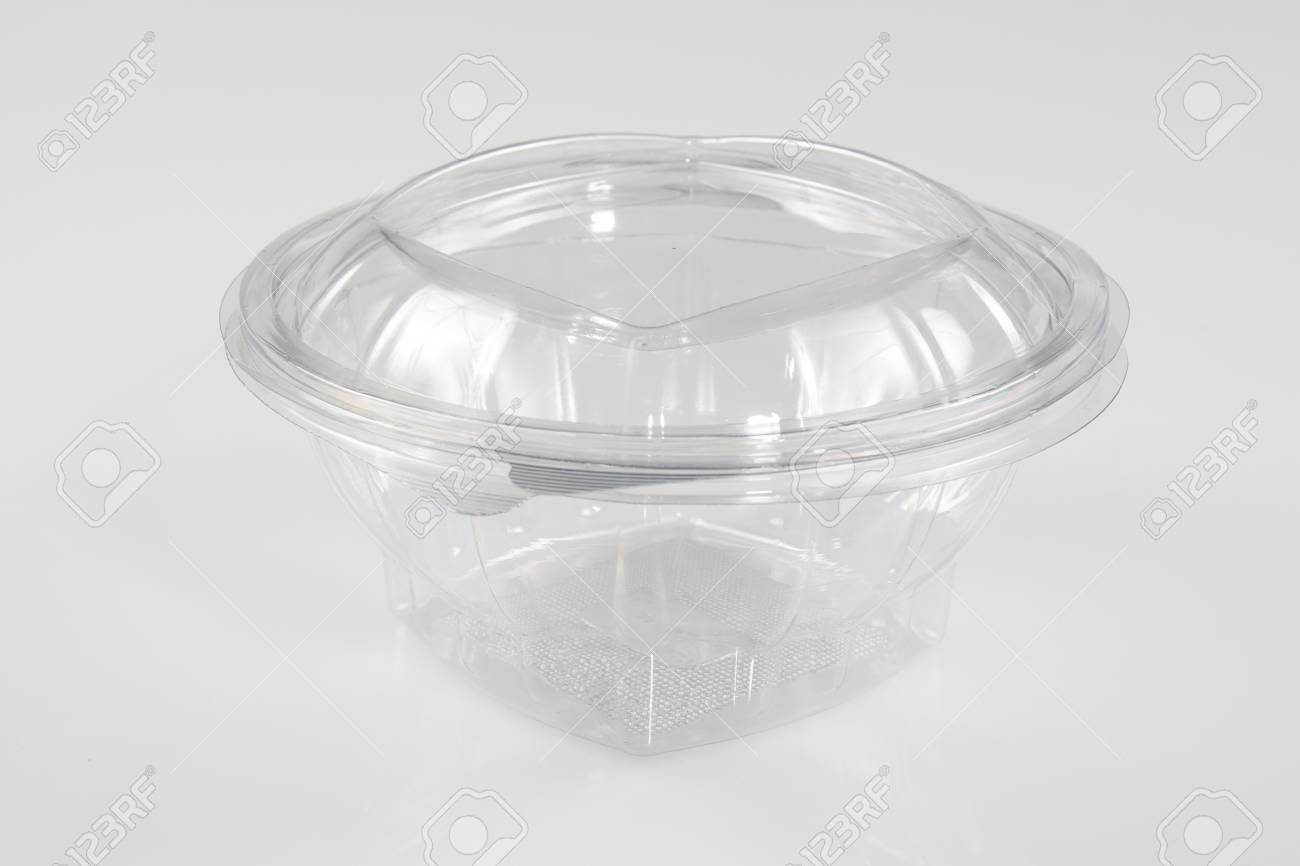PlasticBox: (213, 125, 1137, 757)
